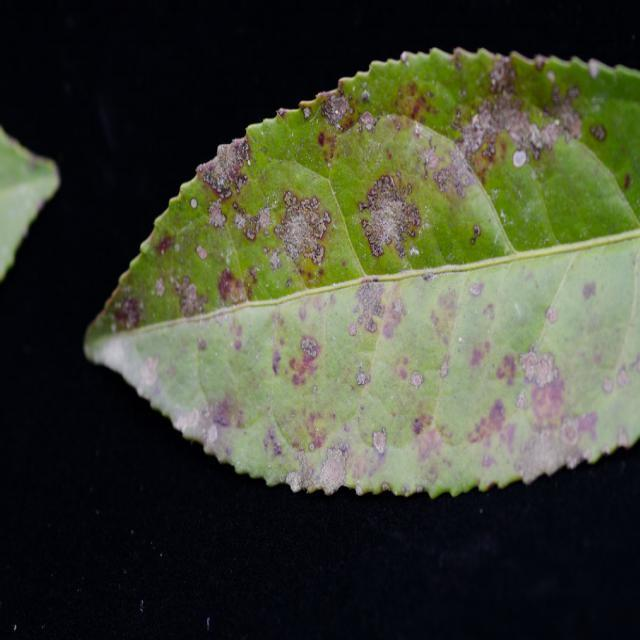Tea red rust: (154, 50, 635, 489)
